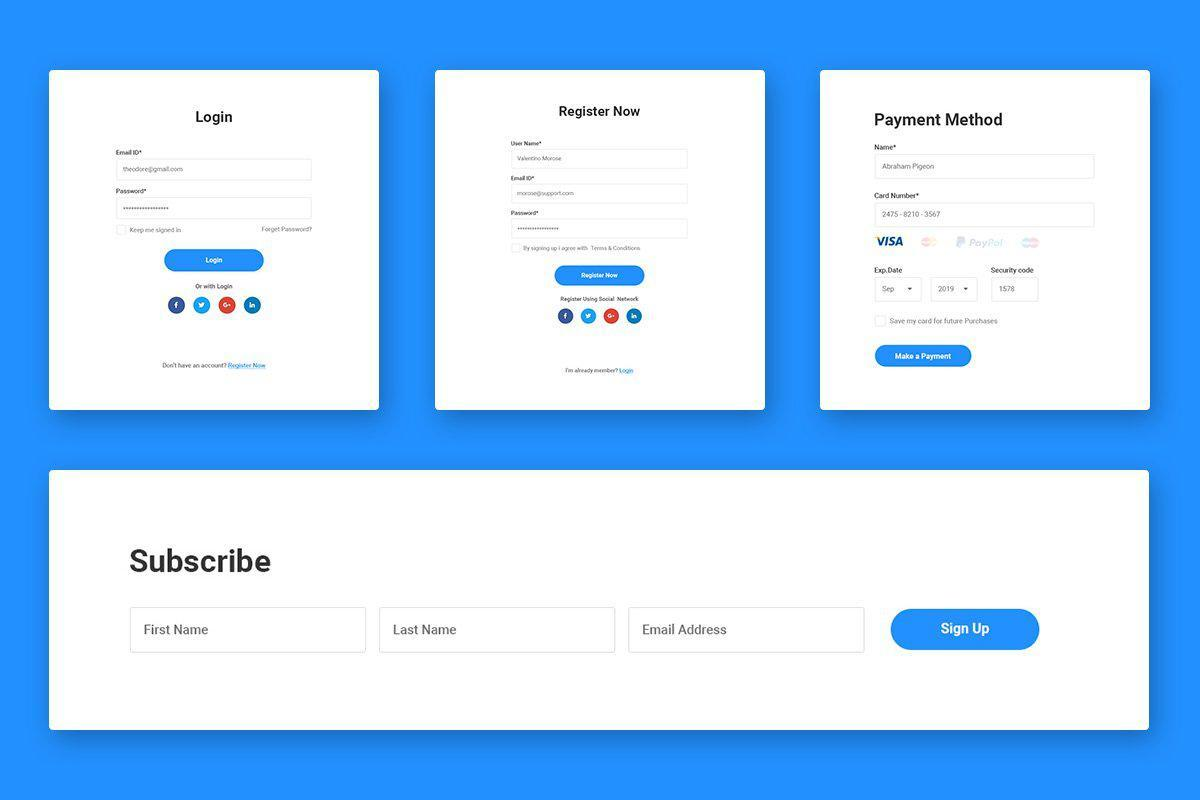button: (889, 609, 1043, 652), (875, 344, 973, 369), (165, 250, 265, 272), (556, 265, 646, 289)
checkbox: (875, 315, 888, 329), (116, 225, 127, 237), (513, 244, 522, 254)
dropdown: (932, 279, 979, 303), (877, 279, 923, 303)
input: (627, 606, 866, 655), (128, 607, 369, 654), (379, 608, 616, 655), (876, 155, 1096, 181), (877, 205, 1095, 228), (117, 159, 312, 182), (117, 197, 311, 220), (511, 149, 688, 171), (513, 219, 689, 239), (511, 187, 689, 205), (992, 279, 1039, 303)
